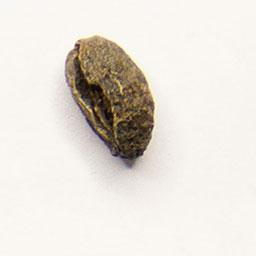defect: (60, 30, 161, 167)
